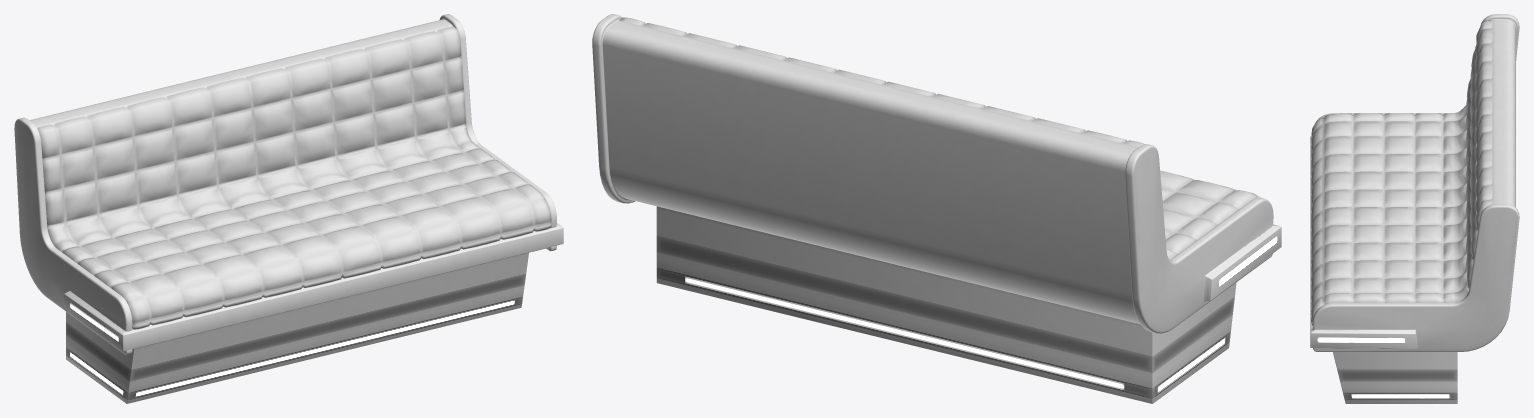
Rendered from Sofa02_1.FBX.
3 views of the same model, side by side, from view 1: azimuth 30°, elevation 25°; view 2: azimuth 150°, elevation 25°; view 3: azimuth 270°, elevation 25° (orthographic). The views are drawn at different scales.
Visible parts, largest first — view 1: Sofa02_1; view 2: Sofa02_1; view 3: Sofa02_1.
Boxes of the visible parts, left/top/right/bottom form: Sofa02_1: left=14, top=14, right=563, bottom=403; Sofa02_1: left=592, top=14, right=1281, bottom=403; Sofa02_1: left=1310, top=14, right=1519, bottom=403.
Size of what is drawn, in the model's own units: 2.3 by 1.11 by 1.02.
